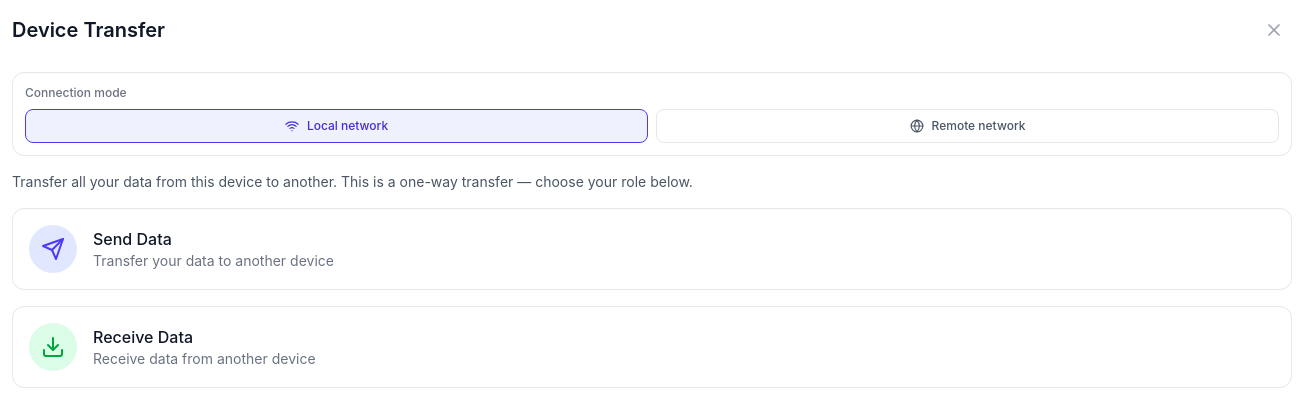
Scenario: DeviceTransferFlow › Receiver flow › shows import mode choice when Receive Data is clicked
Click the text "Receive Data" at (143, 337), box [93,327,193,347]
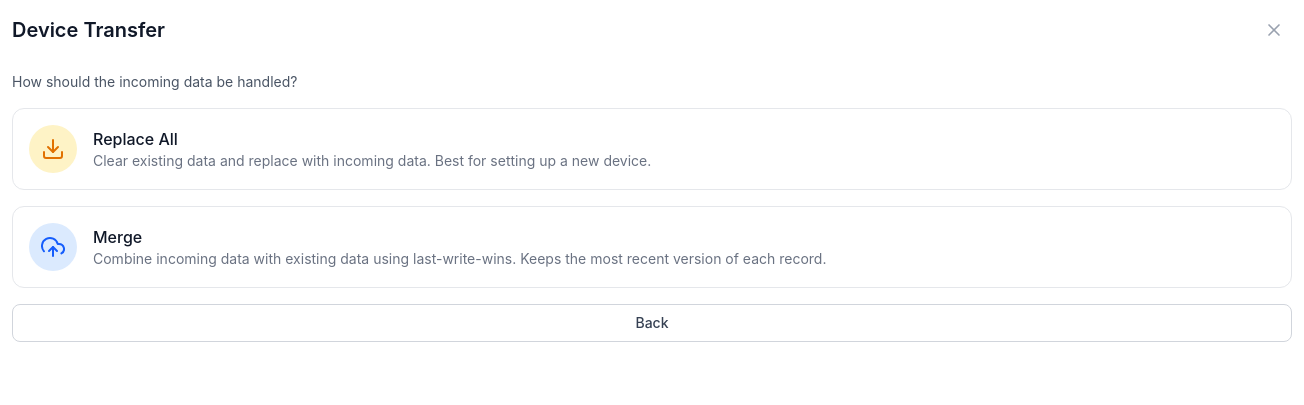
Now the text "Replace All" is shown, box [93,129,178,149]
Now the text "Merge" is shown, box [93,227,142,247]
Now the text "How should the incoming data be handled?" is shown, box [12,73,298,90]
